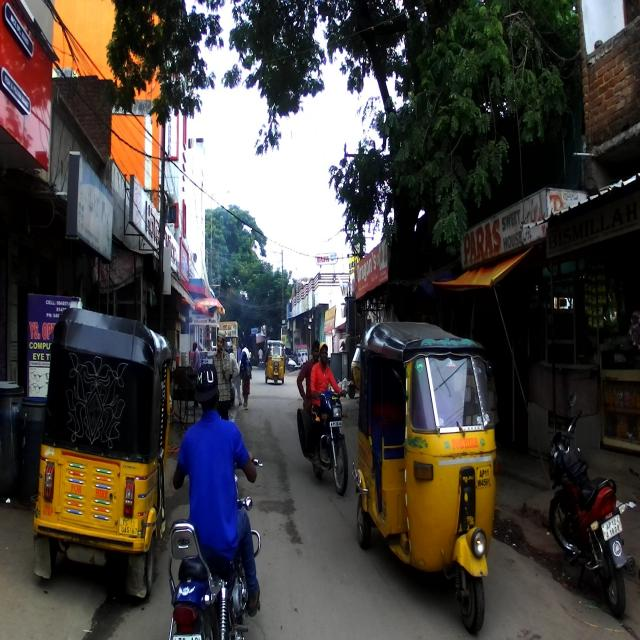autorickshaw: (350, 321, 500, 635), (31, 306, 176, 600)
motorcycle: (547, 388, 636, 619), (165, 450, 262, 639), (296, 387, 349, 495)
